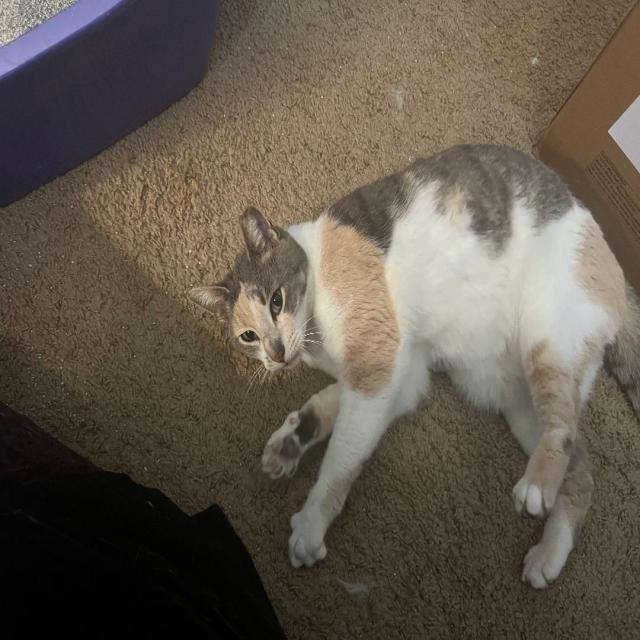calico_cat: (186, 200, 326, 386)
